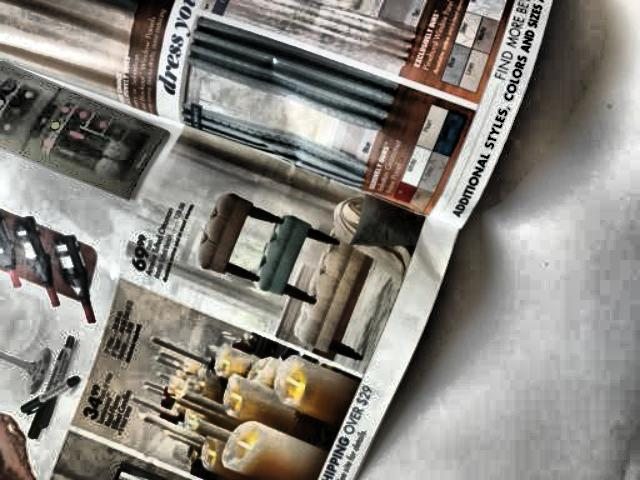Paper: (0, 0, 553, 480)
